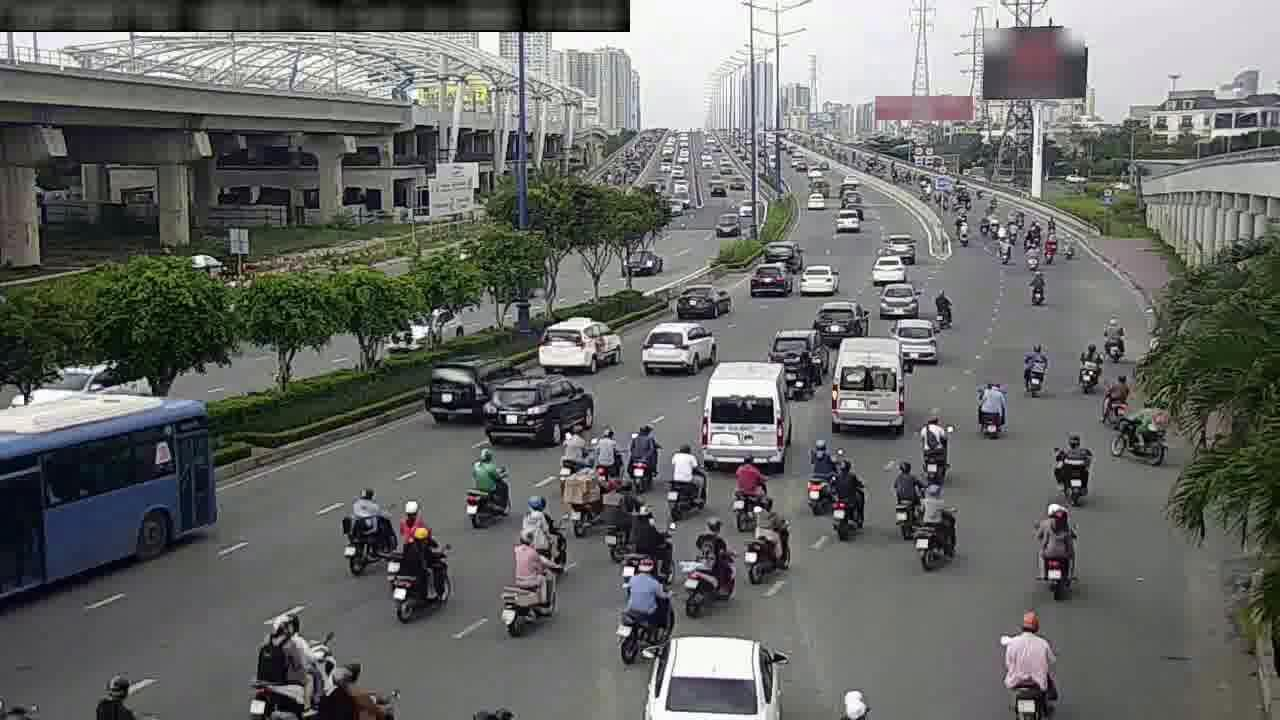14: (0, 405, 215, 574), (701, 359, 789, 467), (828, 339, 902, 429)
container: (642, 639, 775, 720), (485, 367, 583, 445), (423, 358, 513, 421), (537, 311, 614, 371), (644, 316, 718, 375), (815, 297, 866, 345), (894, 318, 939, 366), (675, 285, 734, 320), (768, 332, 823, 369), (750, 255, 791, 297), (879, 279, 921, 318), (798, 258, 835, 295), (870, 258, 903, 284)
motorbike: (249, 598, 358, 713), (618, 543, 676, 669), (390, 509, 454, 622), (1000, 598, 1062, 711), (338, 475, 394, 578), (680, 513, 732, 615), (1031, 493, 1079, 599), (503, 544, 554, 641), (620, 495, 671, 590), (462, 440, 511, 527), (745, 497, 790, 583), (918, 481, 958, 571), (1051, 424, 1094, 503), (523, 496, 563, 580), (1121, 396, 1167, 468), (666, 441, 706, 522), (599, 479, 634, 567), (562, 460, 598, 540), (829, 456, 863, 537), (728, 448, 765, 520), (589, 416, 624, 490), (916, 410, 952, 480), (973, 373, 1008, 439), (894, 460, 924, 536), (629, 418, 662, 483), (808, 440, 835, 514), (1018, 337, 1048, 396), (788, 348, 820, 403), (1098, 367, 1128, 421), (1074, 338, 1102, 394), (558, 423, 586, 474), (1101, 313, 1128, 363), (930, 285, 954, 327), (1025, 266, 1048, 308)
